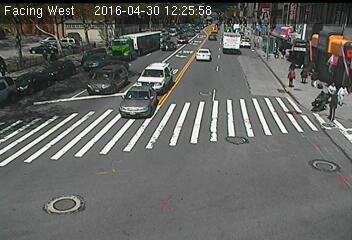neg: (32, 117, 73, 172), (192, 129, 227, 176), (256, 147, 290, 193), (80, 142, 111, 183), (192, 60, 222, 100), (119, 84, 147, 121), (254, 72, 279, 105), (75, 72, 96, 100), (136, 168, 156, 194), (244, 38, 262, 63), (165, 35, 181, 56)
pos: (326, 95, 346, 122), (282, 63, 299, 85), (300, 63, 313, 80), (335, 84, 348, 100), (326, 80, 338, 95)
